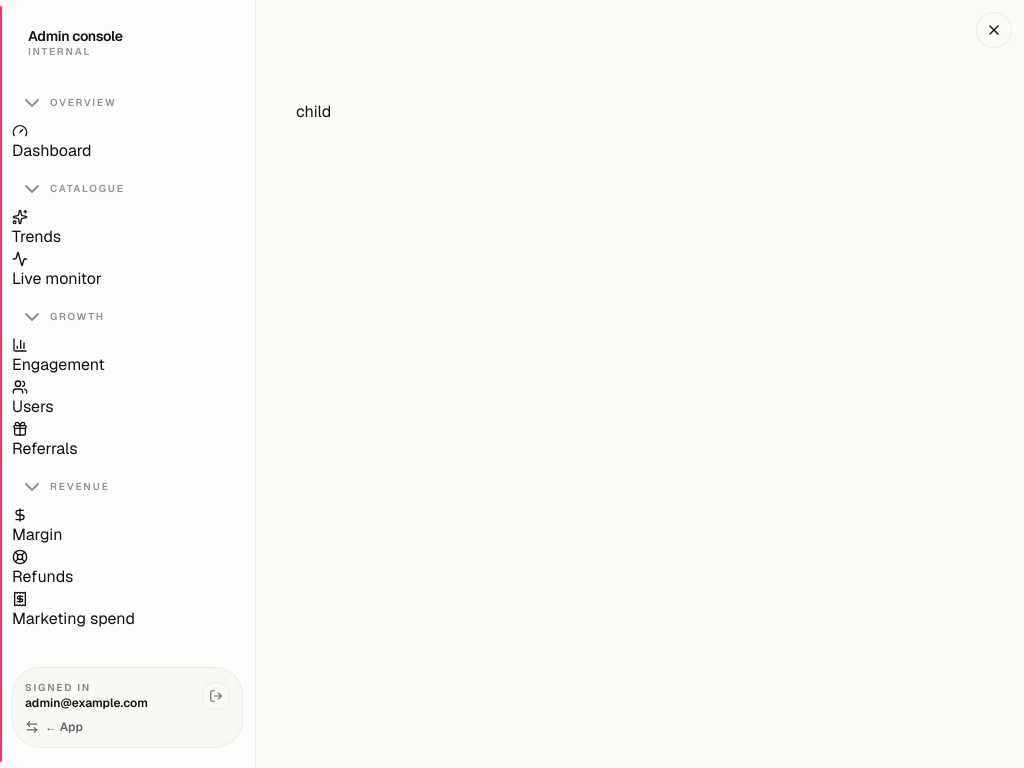
Test case: AdminShell › collapsible groups › collapses a group and hides its items when its header is clicked
The width and height of the screenshot is (1024, 768).
Check: the link "Trends" is shown, box x1=12 y1=208 x2=61 y2=246
Click the button "Catalogue" at (128, 188), box x1=12 y1=170 x2=243 y2=206
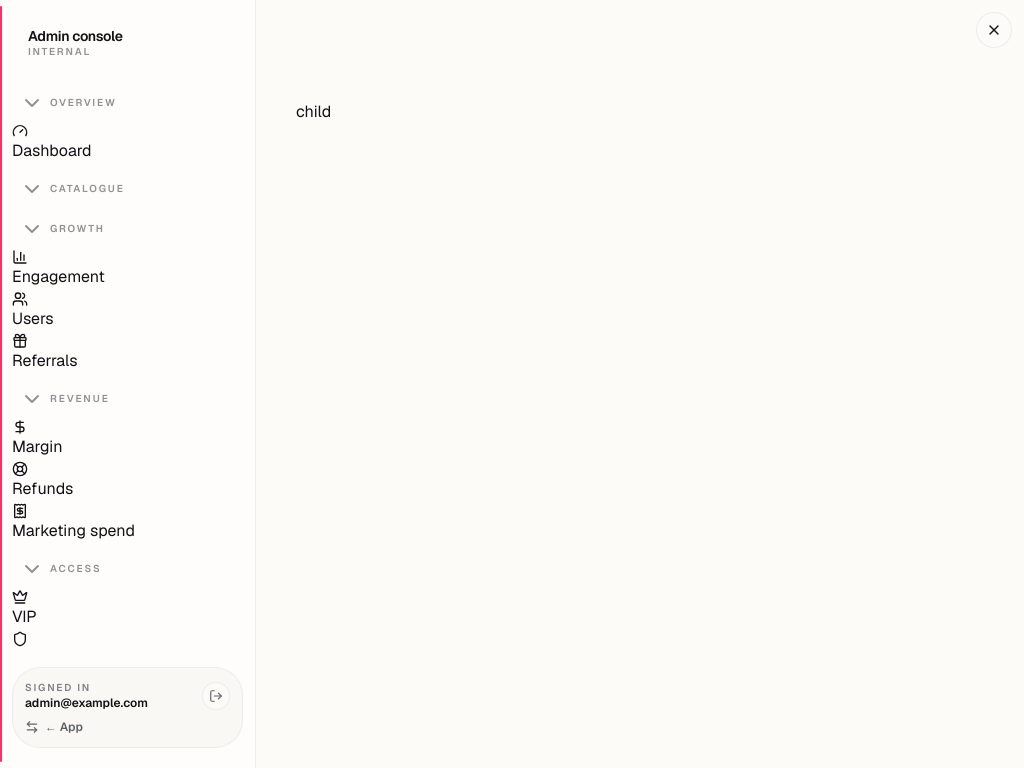
Check: the link "Trends" is gone
